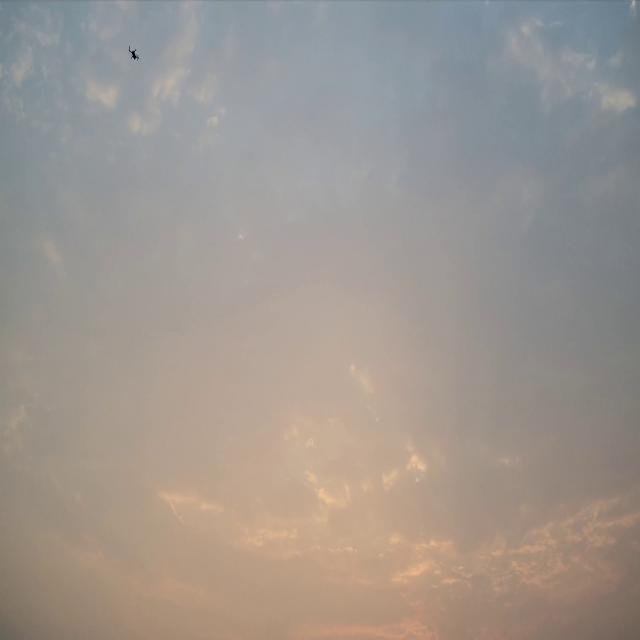UAV: (128, 44, 141, 60)
